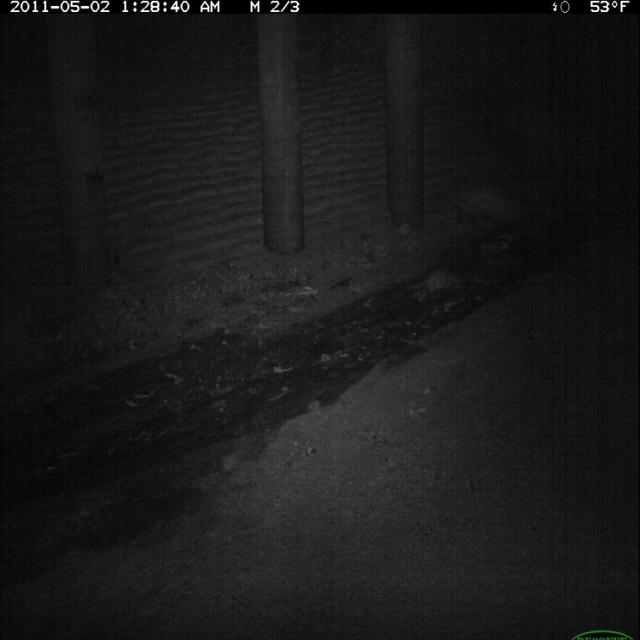opossum: (405, 266, 468, 303)
